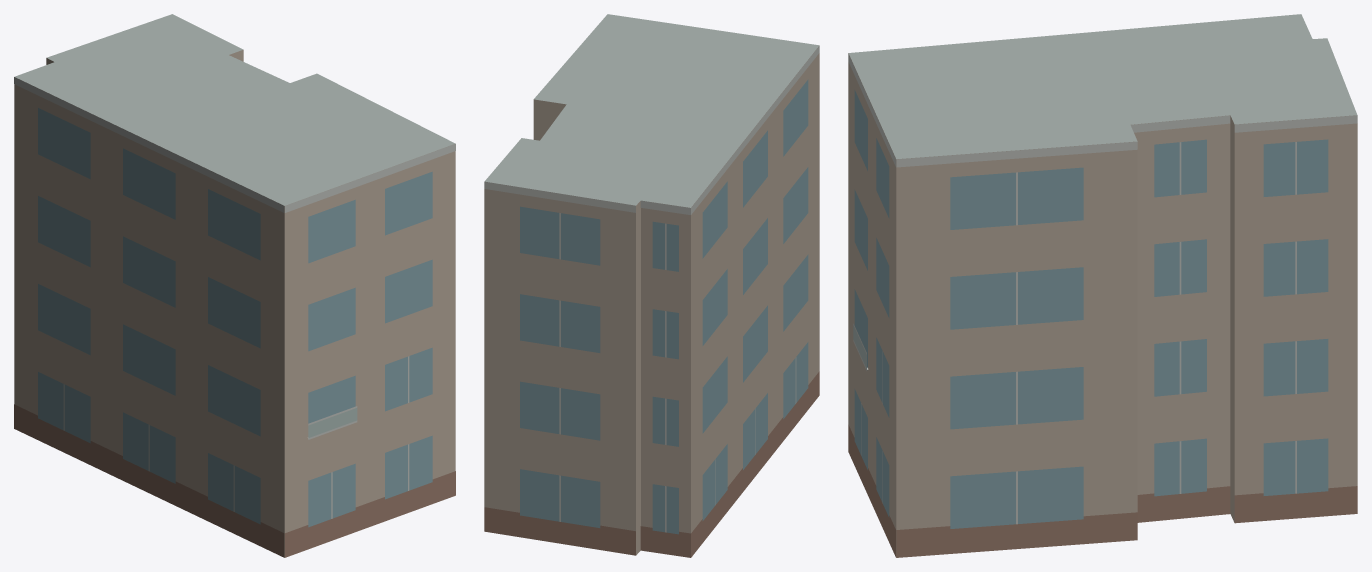
The model's file is survey-upis-32511975.glb.
3 views of the same model, side by side, from view 1: azimuth 30°, elevation 25°; view 2: azimuth 150°, elevation 25°; view 3: azimuth 270°, elevation 25° (orthographic). The views are drawn at different scales.
Visible parts, largest first — view 1: survey-upis-32511975.tmp; view 2: survey-upis-32511975.tmp; view 3: survey-upis-32511975.tmp.
Boxes of the visible parts, box(x1,y1,x2,y2) form: survey-upis-32511975.tmp: box(14, 14, 455, 557); survey-upis-32511975.tmp: box(484, 14, 819, 557); survey-upis-32511975.tmp: box(848, 14, 1357, 557).
Size of the model in its own units: 9.15 by 11.7 by 13.55.
